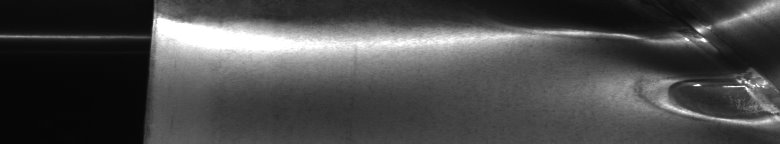ke: (461, 8, 776, 132)
